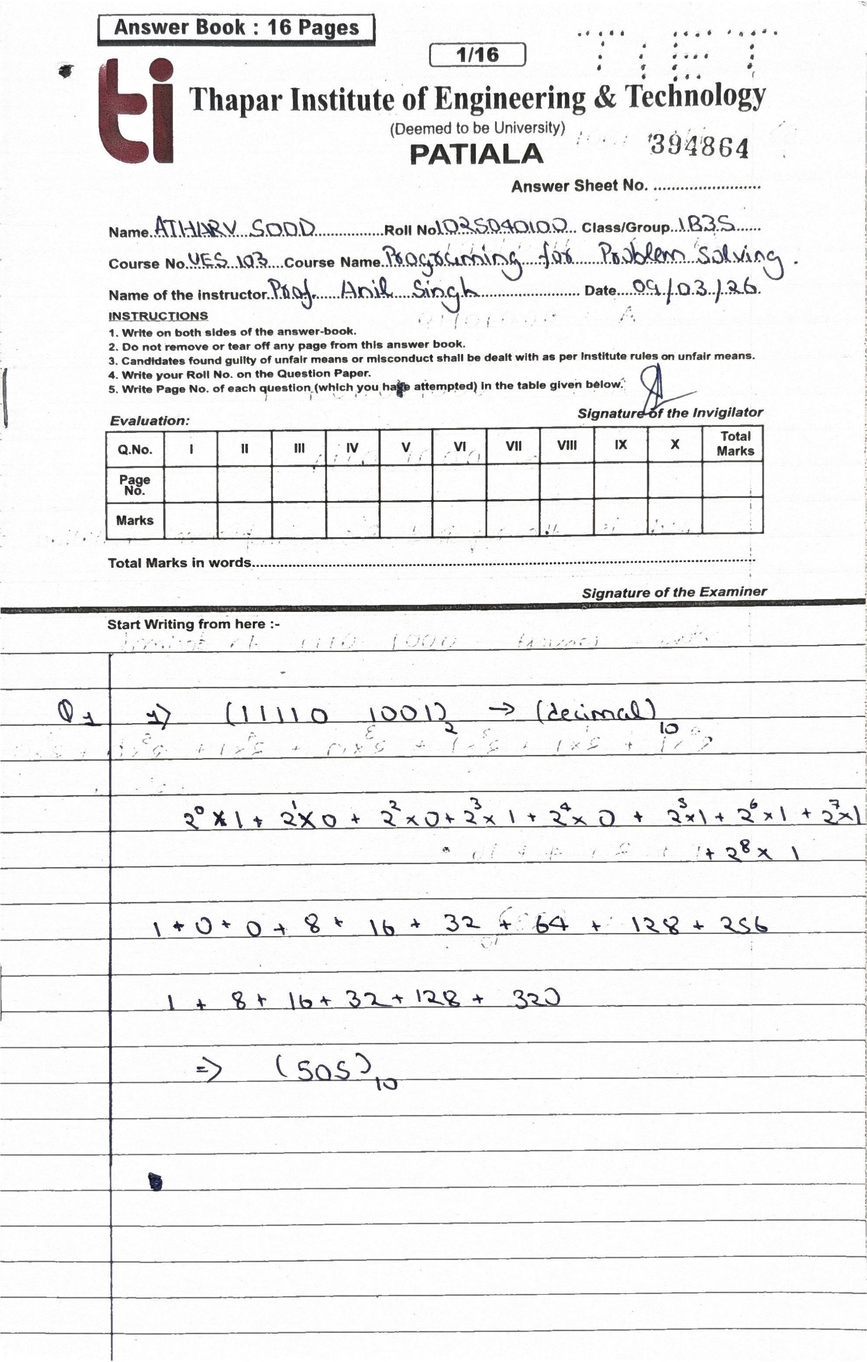cuttings: (147, 1171, 163, 1192)
